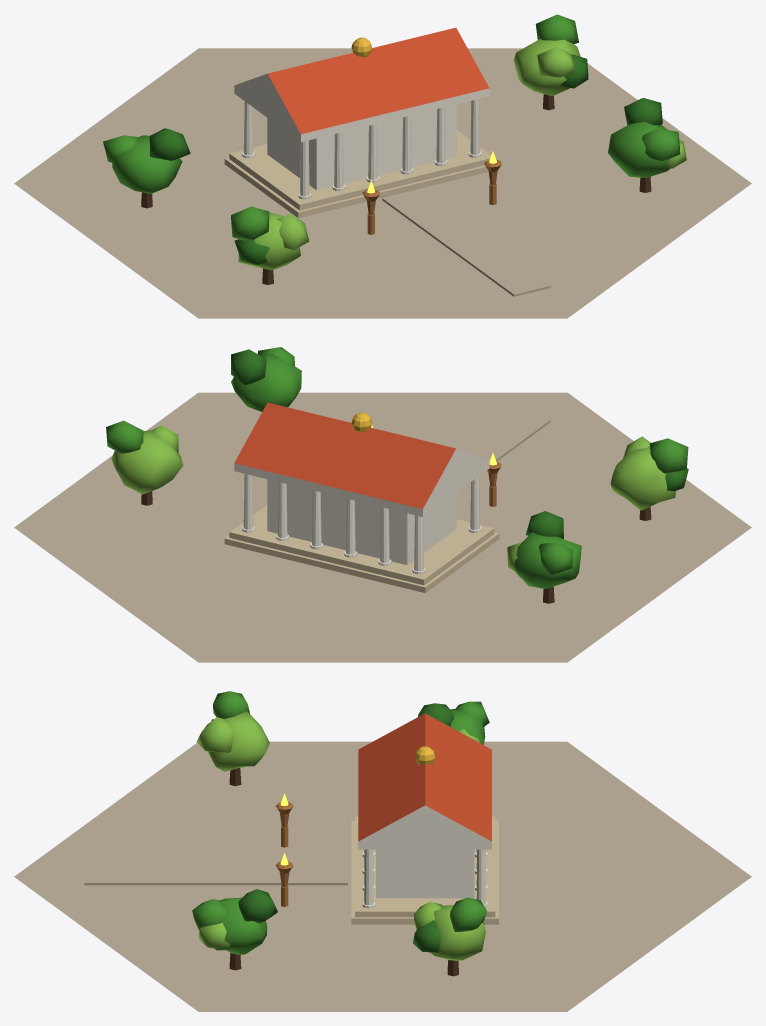
Rendered from district_holy_site_1.fbx.
3 renders of one model, top to bottom at view 1: azimuth 30°, elevation 25°; view 2: azimuth 150°, elevation 25°; view 3: azimuth 270°, elevation 25°, orthographic.
Visible parts, largest first — view 1: district_holy_site_1; view 2: district_holy_site_1; view 3: district_holy_site_1.
Part boxes in pixels (x1=…): district_holy_site_1: x1=14, y1=14, x2=751, y2=318; district_holy_site_1: x1=14, y1=347, x2=751, y2=662; district_holy_site_1: x1=14, y1=691, x2=751, y2=1011.
Bounding box in the file's own units: 182 × 40.7 × 210.
